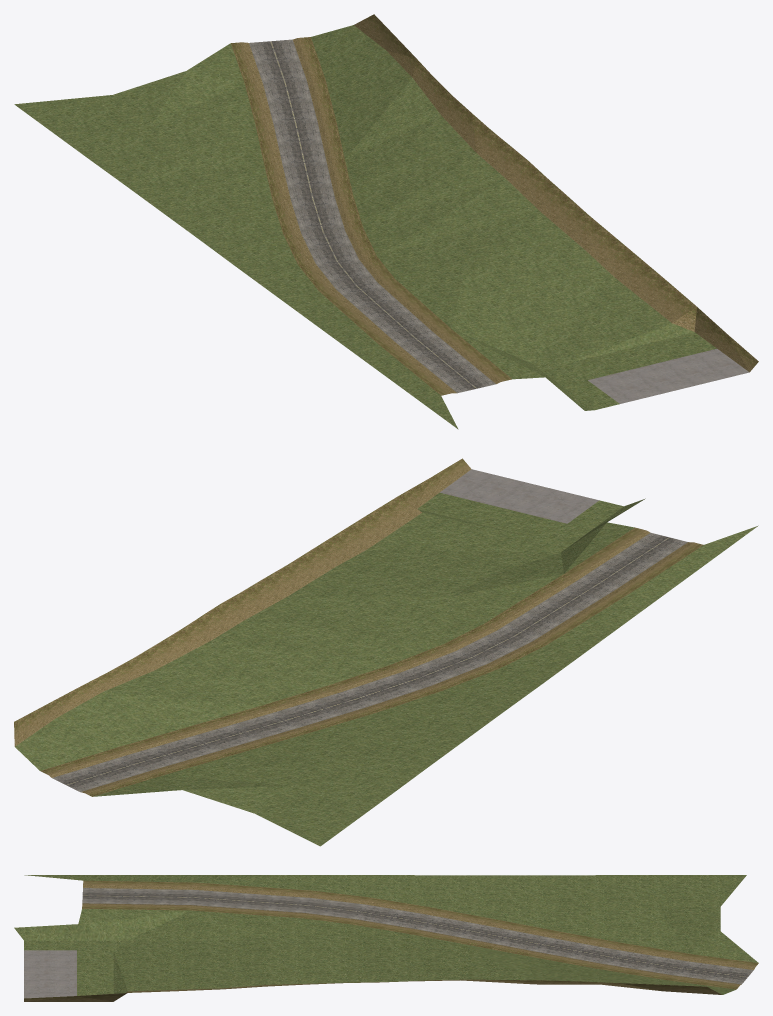
File: ne_bit_18.obj
3 renders of one model, top to bottom at view 1: azimuth 30°, elevation 25°; view 2: azimuth 150°, elevation 25°; view 3: azimuth 270°, elevation 25°, orthographic. The views are drawn at different scales.
Parts seen in each view (by area): view 1: ne_bit_18; view 2: ne_bit_18; view 3: ne_bit_18.
Part boxes in pixels (left/top/right/bottom): ne_bit_18: left=14, top=14, right=758, bottom=429; ne_bit_18: left=14, top=458, right=758, bottom=846; ne_bit_18: left=14, top=875, right=758, bottom=1001.
Bounding box in the file's own units: 105 × 11.98 × 247.
5 materials, 5 textured.
